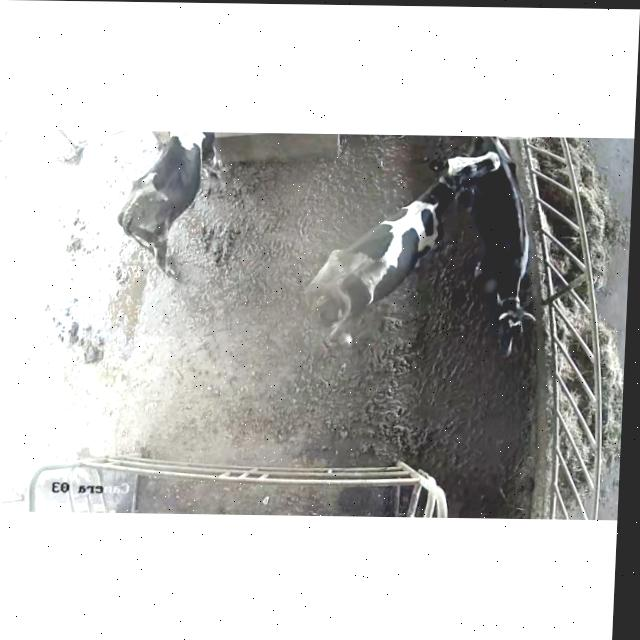propping: (411, 140, 516, 210)
